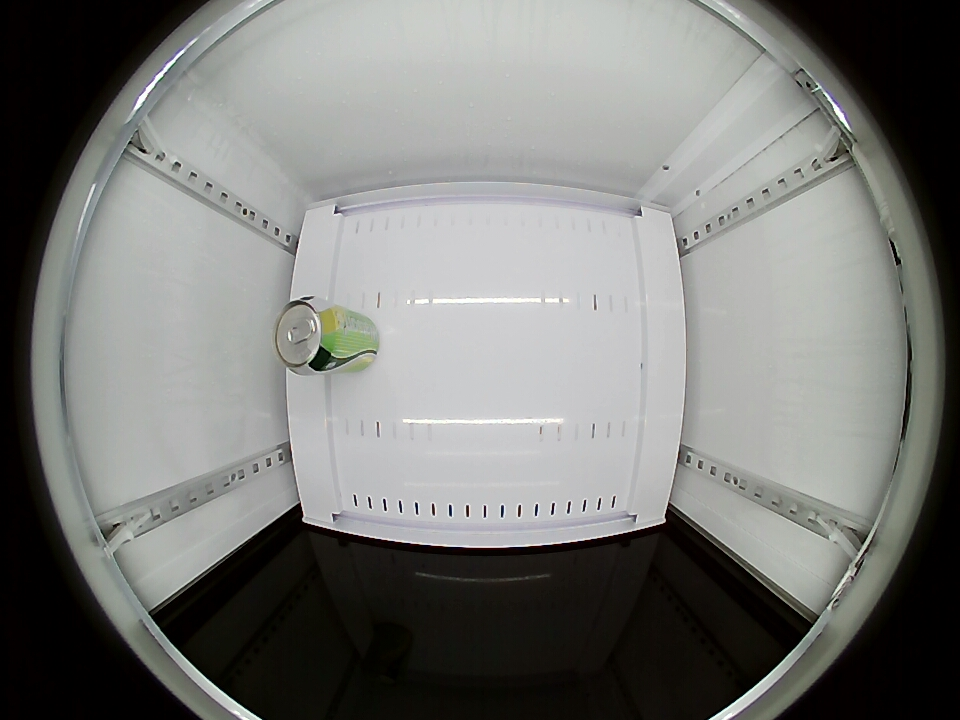quchenshixiangcao: (274, 297, 341, 373)
